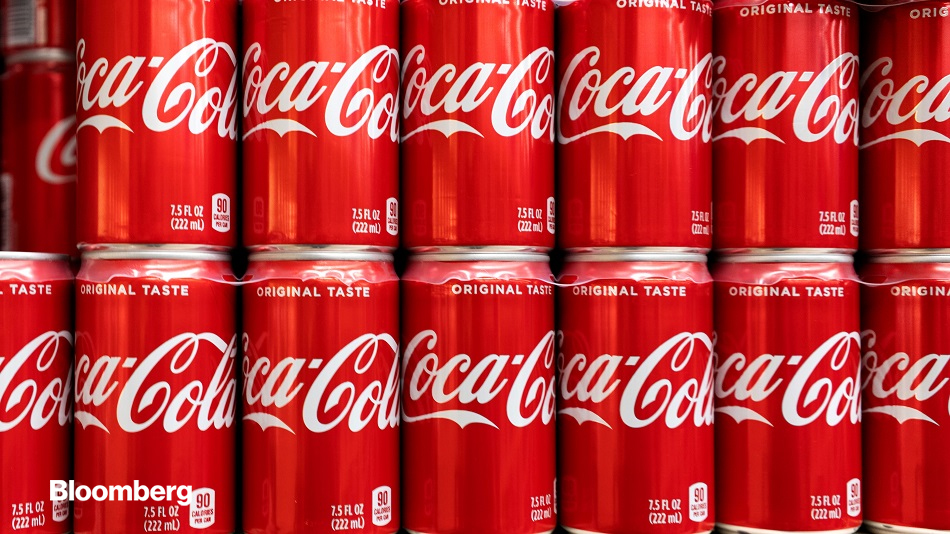Coca-Cola: (249, 247, 414, 534), (77, 262, 242, 534), (561, 254, 719, 526), (75, 1, 233, 271), (716, 1, 872, 255), (558, 1, 712, 249), (237, 9, 393, 248), (395, 11, 550, 251), (727, 261, 862, 529)
